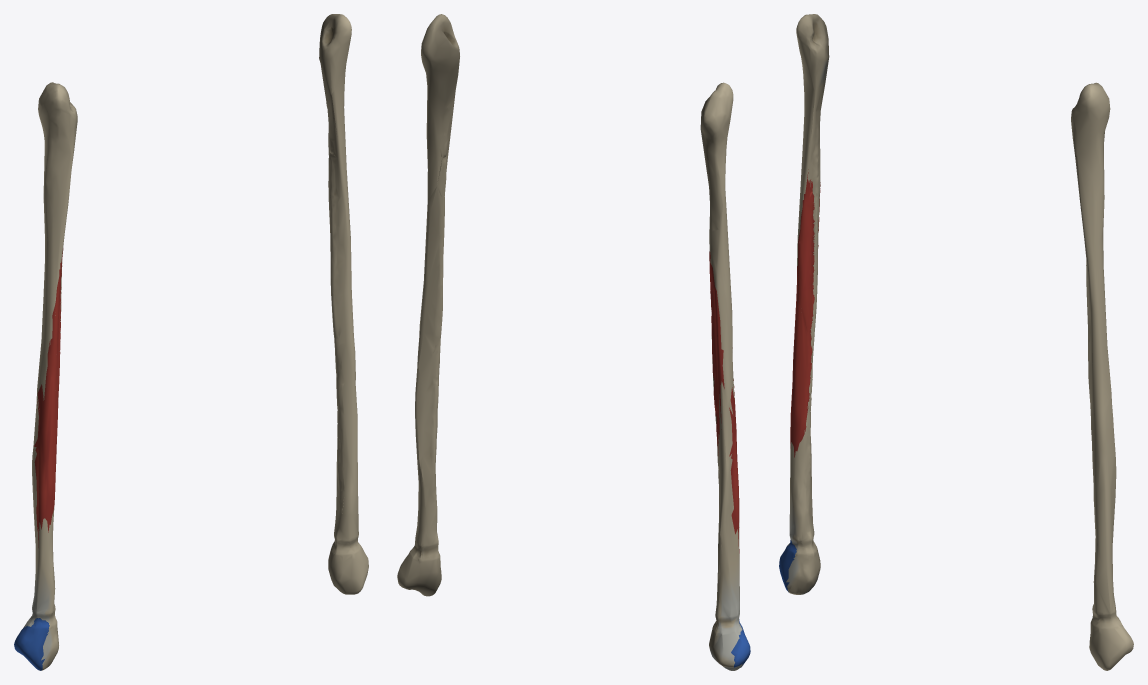
File: fibula.glb
3 views of the same model, side by side, from view 1: azimuth 30°, elevation 25°; view 2: azimuth 150°, elevation 25°; view 3: azimuth 330°, elevation 25° (orthographic).
Parts seen in each view (by area): view 1: FJ3260, FJ3366, origo__corpus__FJ1415, fibula__malleolus-lateralis, fibula__corpus, origo__corpus__FJ1410, insertio__caput-collum__FJ1395, fibula__caput-collum; view 2: FJ3260, FJ3366, fibula__corpus, fibula__malleolus-lateralis, origo__corpus__FJ1415, fibula__caput-collum, origo__corpus__FJ1410; view 3: FJ3260, FJ3366, origo__corpus__FJ1415, fibula__malleolus-lateralis.
Part boxes in pixels (x1,y1,x2,y2): FJ3260: (319,14,368,594); FJ3366: (31,83,77,670); origo__corpus__FJ1415: (41,248,63,514); fibula__malleolus-lateralis: (38,82,73,180); fibula__corpus: (32,231,58,509); origo__corpus__FJ1410: (34,384,52,547); insertio__caput-collum__FJ1395: (14,618,49,670); fibula__caput-collum: (23,574,52,664); FJ3260: (397,14,459,596); FJ3366: (700,83,739,670); fibula__corpus: (716,226,734,523); fibula__malleolus-lateralis: (702,82,733,193); origo__corpus__FJ1415: (709,251,737,455); fibula__caput-collum: (714,580,743,670); origo__corpus__FJ1410: (729,387,739,553); FJ3260: (1071,82,1133,670); FJ3366: (787,14,829,594); origo__corpus__FJ1415: (792,169,820,442); fibula__malleolus-lateralis: (796,14,815,91).
Bounding box in the file's own units: 240 × 384 × 29.77.
